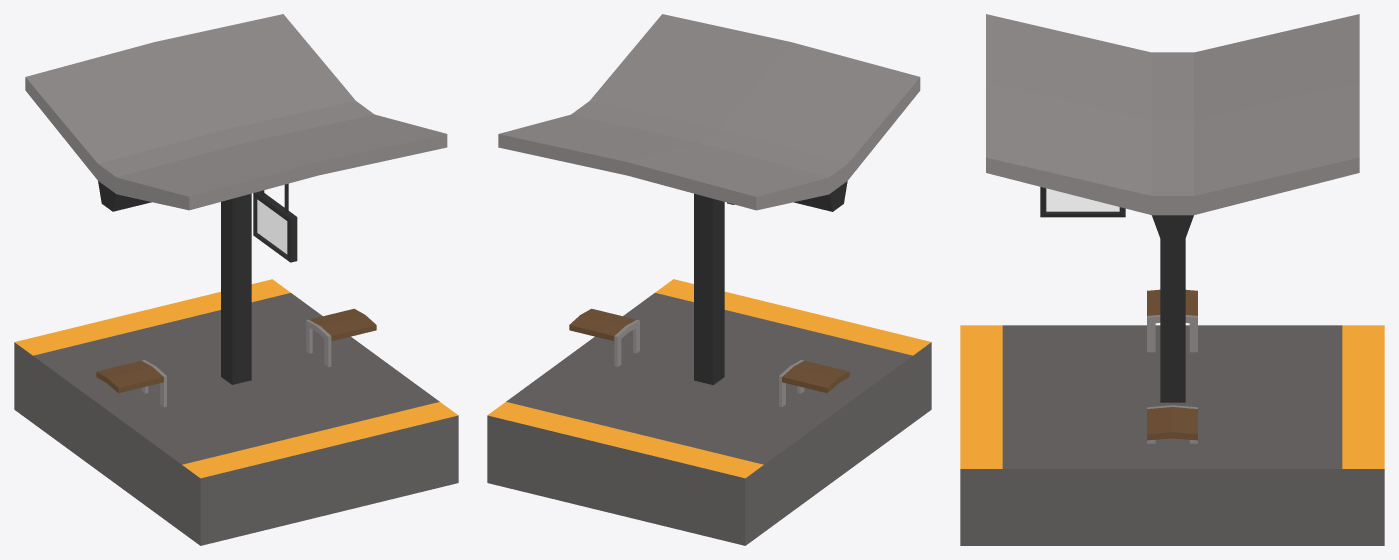
The model's file is train-station-platform-sign-small.glb.
3 views of the same model, side by side, from view 1: azimuth 30°, elevation 25°; view 2: azimuth 150°, elevation 25°; view 3: azimuth 270°, elevation 25° (orthographic). The views are drawn at different scales.
Parts seen in each view (by area): view 1: train-station-platform-sign-small; view 2: train-station-platform-sign-small; view 3: train-station-platform-sign-small.
Part boxes in pixels (left/top/right/bottom): train-station-platform-sign-small: left=14, top=14, right=458, bottom=545; train-station-platform-sign-small: left=487, top=14, right=931, bottom=545; train-station-platform-sign-small: left=960, top=14, right=1384, bottom=545.
Bounding box in the file's own units: 4 × 5.1 × 5.
Materials: 1 (1 with a texture image).
